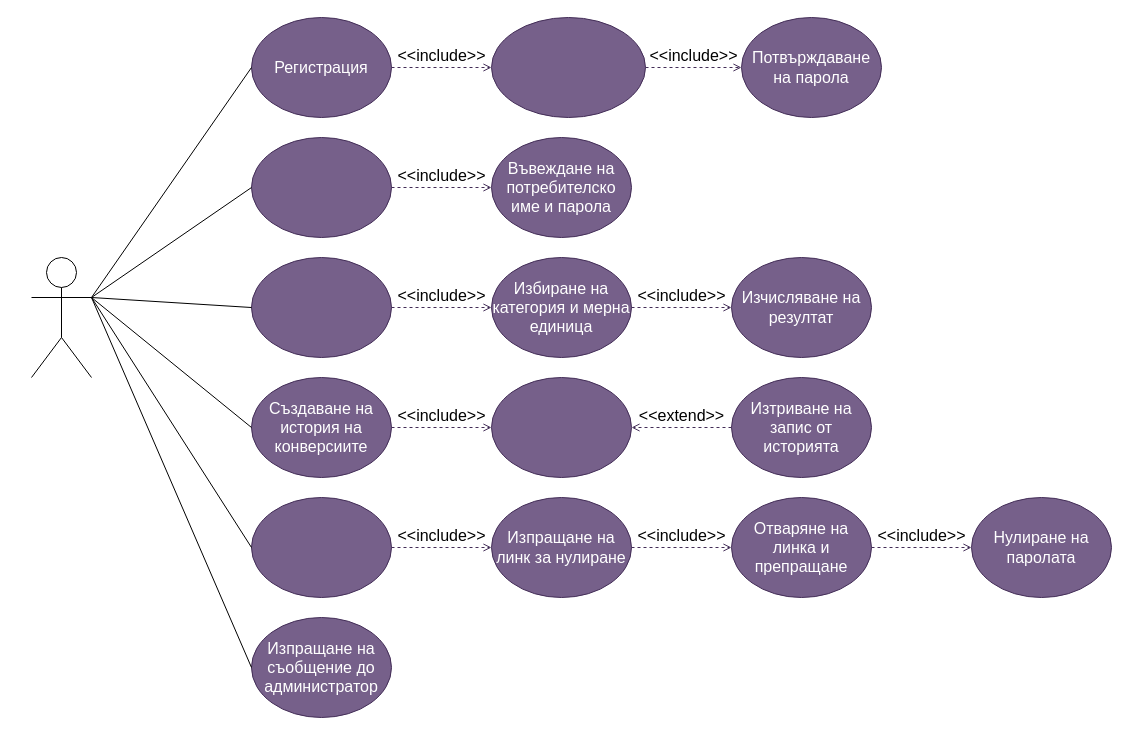
Some shapes in this 1129 by 735 pixel diagram are drawn without their labels. Here are the shapes that lost their labels. From the top down, the centre of each, then its label:
pixel 568 67: Въвеждане на потребителско име, имейл и парола
pixel 321 187: Вписване
pixel 61 317: Потребител
pixel 321 307: Преобразуване
pixel 561 427: Извършване на преобразуване
pixel 321 547: Нулиране на парола
